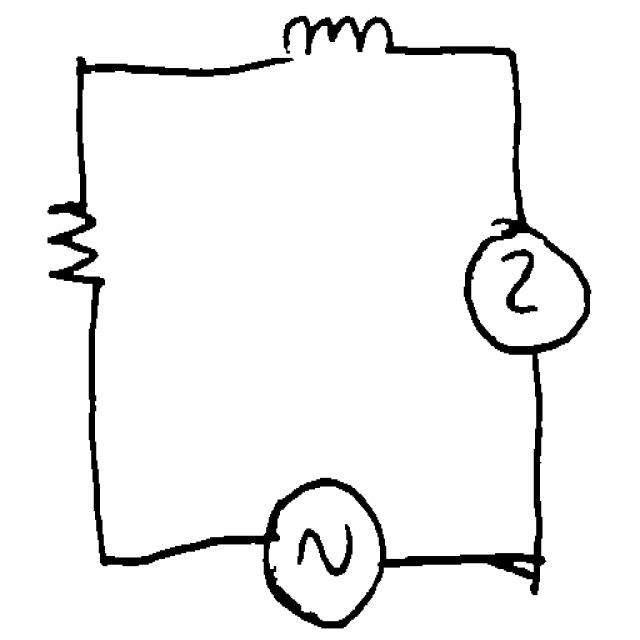ac: (254, 469, 391, 632), (453, 208, 596, 364)
inductor: (266, 5, 408, 80)
resistor: (39, 174, 119, 308)
